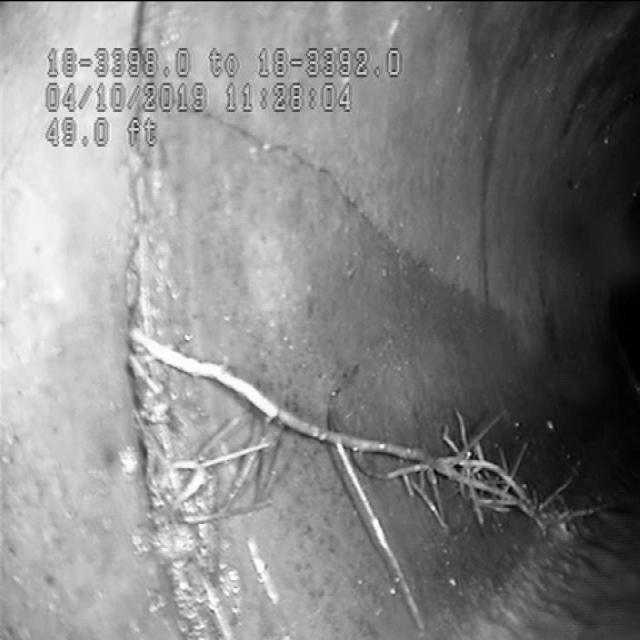Crack: (75, 312, 507, 552), (250, 124, 430, 250)
